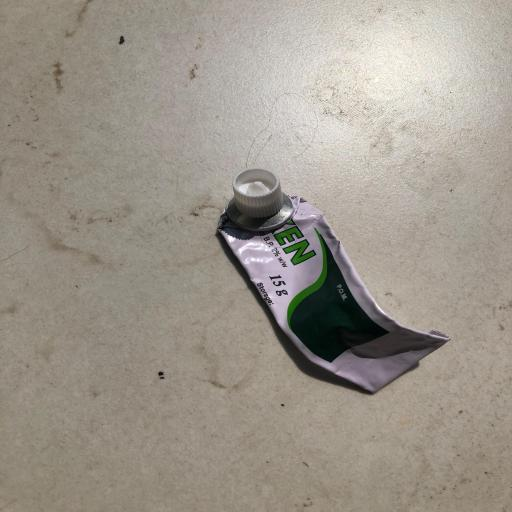waste: (200, 156, 460, 407)
